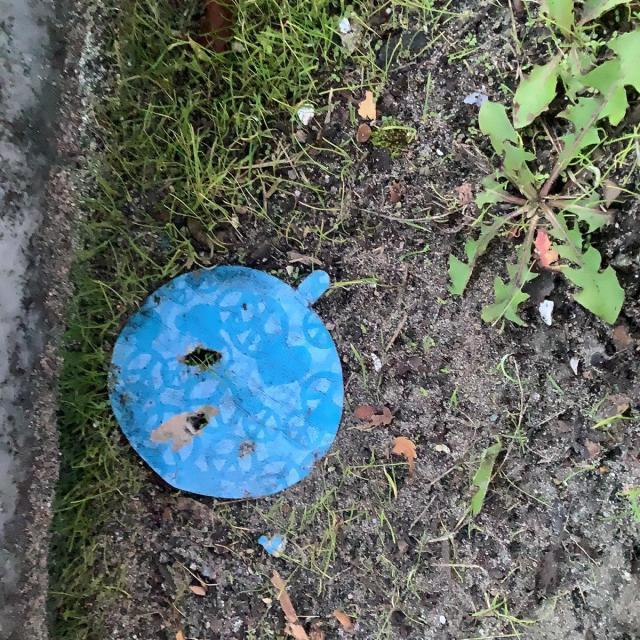Paper: (106, 262, 346, 502)
